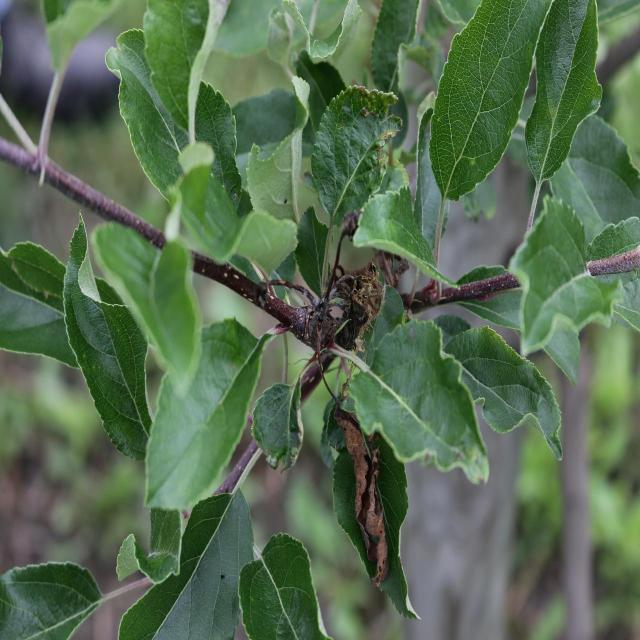-FireBlight-: (314, 358, 404, 593)
